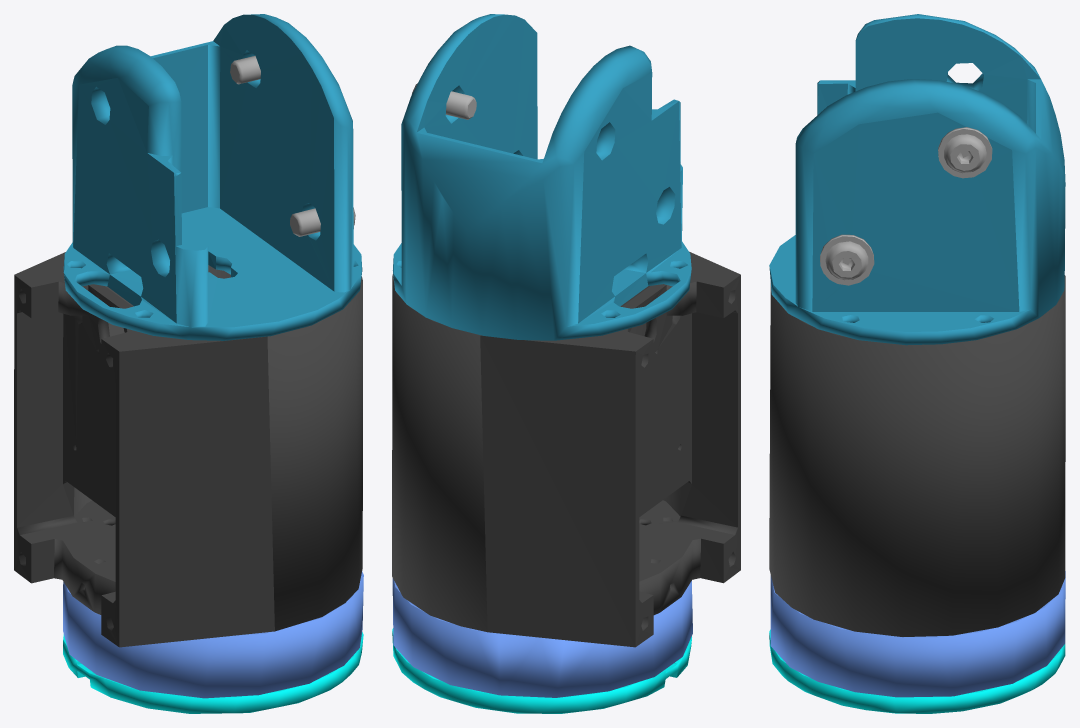
The model's file is LARM_LINK2_mesh.dae.
3 renders of one model, left to right at view 1: azimuth 30°, elevation 25°; view 2: azimuth 150°, elevation 25°; view 3: azimuth 270°, elevation 25°, orthographic.
Parts seen in each view (by area): view 1: サーフェス1_ncl1_8, サーフェス1, サーフェス1_ncl1_7, サーフェス1_ncl1_5, サーフェス1_ncl1_30, サーフェス1_ncl1_31; view 2: サーフェス1_ncl1_8, サーフェス1, サーフェス1_ncl1_7, サーフェス1_ncl1_5, サーフェス1_ncl1_31; view 3: サーフェス1_ncl1_8, サーフェス1, サーフェス1_ncl1_7, サーフェス1_ncl1_5, サーフェス1_ncl1_30, サーフェス1_ncl1_31.
Part boxes in pixels (x1,y1,x2,y2): サーフェス1_ncl1_8: (14, 252, 362, 647); サーフェス1: (63, 14, 362, 340); サーフェス1_ncl1_7: (63, 571, 363, 698); サーフェス1_ncl1_5: (63, 632, 363, 713); サーフェス1_ncl1_30: (290, 207, 355, 236); サーフェス1_ncl1_31: (230, 55, 260, 84); サーフェス1_ncl1_8: (392, 251, 740, 647); サーフェス1: (392, 14, 691, 340); サーフェス1_ncl1_7: (392, 578, 692, 697); サーフェス1_ncl1_5: (392, 628, 691, 713); サーフェス1_ncl1_31: (411, 83, 476, 119); サーフェス1_ncl1_8: (769, 275, 1065, 636); サーフェス1: (769, 14, 1065, 345); サーフェス1_ncl1_7: (770, 571, 1065, 697); サーフェス1_ncl1_5: (769, 629, 1065, 713); サーフェス1_ncl1_30: (820, 234, 874, 285); サーフェス1_ncl1_31: (938, 127, 992, 178).
Bounding box in the file's own units: 0.066 × 0.0621 × 0.1416.
